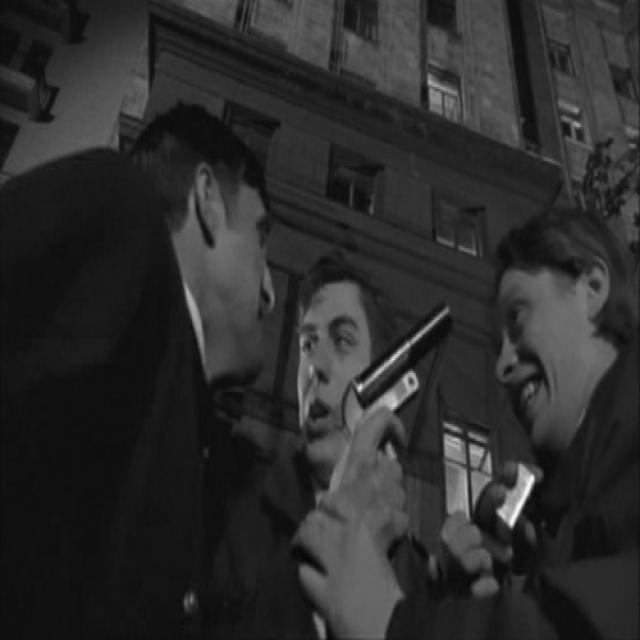weapons: (334, 273, 462, 525)
